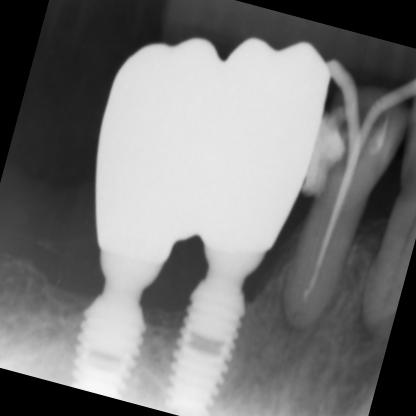Bicon: (60, 256, 164, 402), (159, 271, 255, 415)
